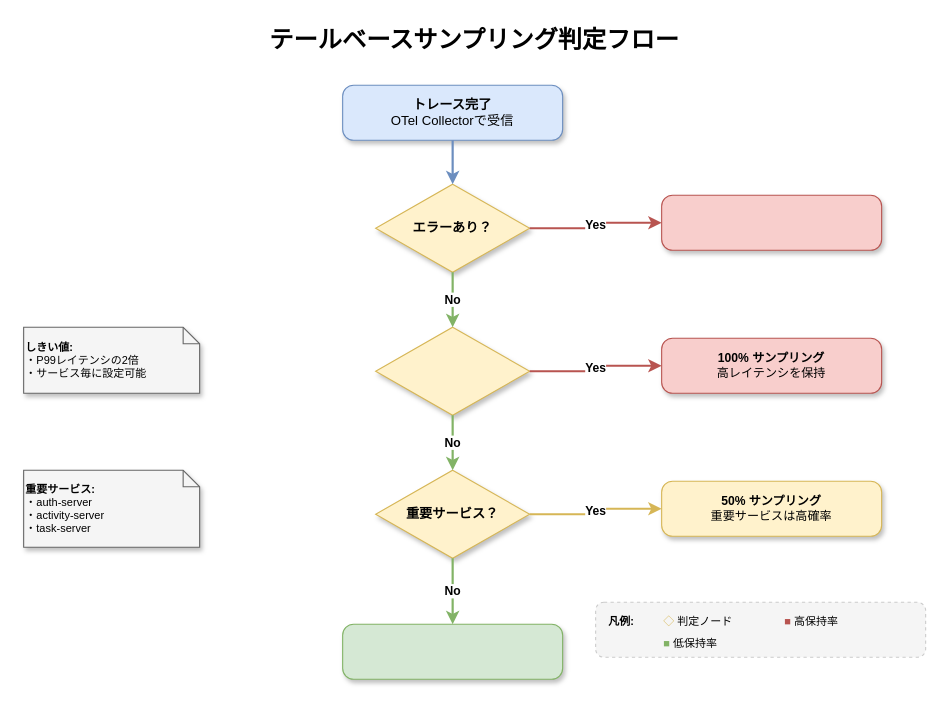
Some shapes in this 945 by 706 pixel diagram are drawn without their labels. Here are the shapes that lost their labels. From the top down, the centre of each, then its label:
[772,224]: 100% サンプリング 全エラートレースを保持
[453,372]: レイテンシ > しきい値？
[453,653]: 5% 確率的サンプリング デフォルト保持率
